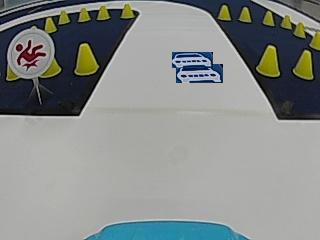cone: (256, 44, 281, 78), (74, 41, 98, 76), (292, 49, 314, 80), (41, 59, 61, 78), (217, 4, 231, 21), (120, 3, 134, 19), (238, 6, 251, 23), (57, 8, 70, 25), (293, 20, 305, 38), (97, 4, 110, 20), (77, 6, 90, 22), (44, 16, 56, 33), (6, 64, 18, 81), (262, 10, 274, 26), (310, 30, 319, 50), (280, 13, 291, 29)
tumble: (13, 32, 50, 70)
